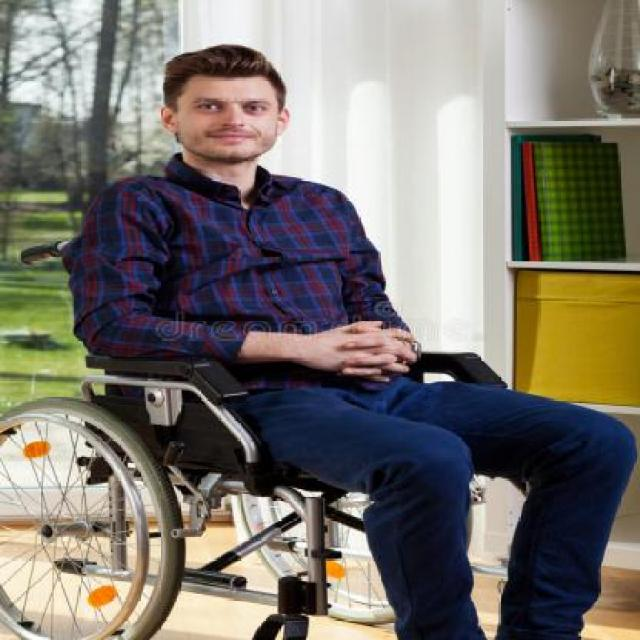peopleWithWheelchair: (0, 43, 638, 638)
